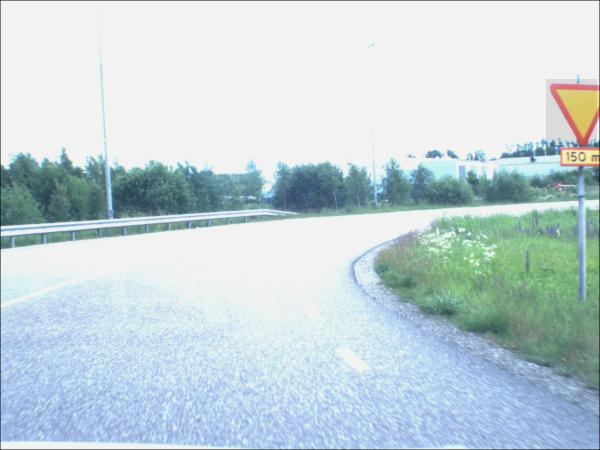GIVE_WAY: (547, 80, 599, 148)
